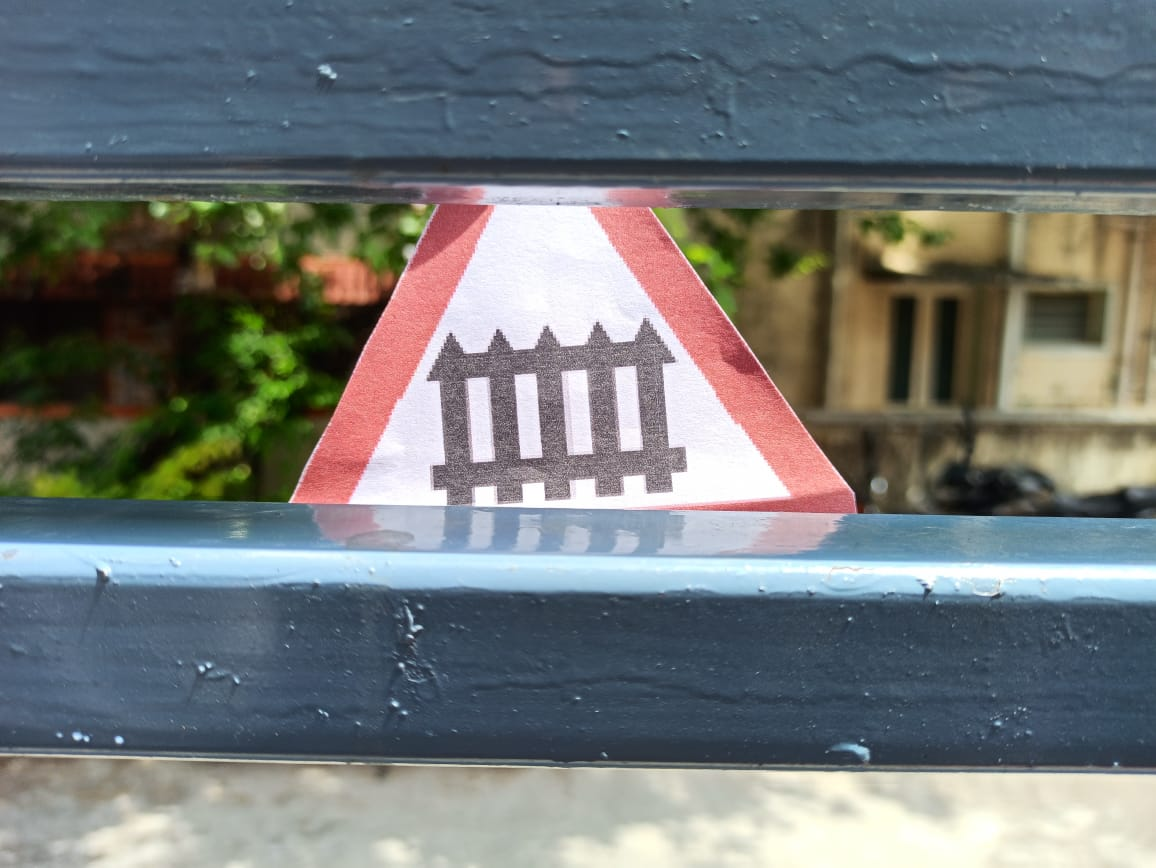GUARDED LEVEL CROSSING: (266, 97, 900, 578)
